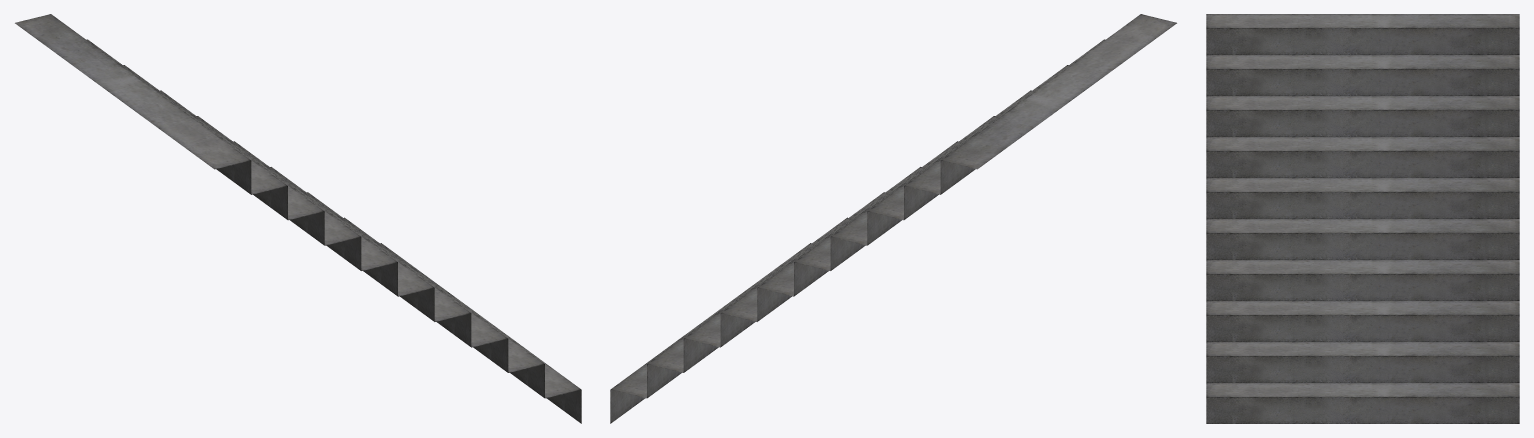
The picture shows the model from 3 angles, left to right: view 1: azimuth 30°, elevation 25°; view 2: azimuth 150°, elevation 25°; view 3: azimuth 270°, elevation 25°; orthographic projection. The views are drawn at different scales.
Visible parts, largest first — view 1: Cube.066; view 2: Cube.066; view 3: Cube.066.
Part boxes in pixels (x1,y1,x2,y2): Cube.066: [15, 14, 581, 423]; Cube.066: [610, 14, 1176, 423]; Cube.066: [1206, 14, 1519, 423].
Size of the model in its own units: 285 by 256 by 270.
